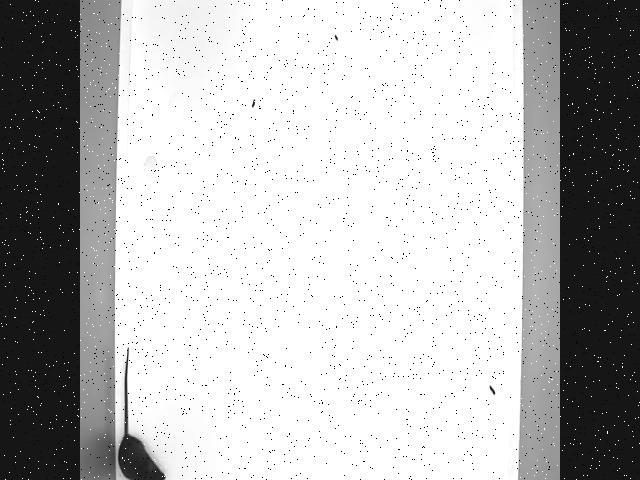Tikus: (113, 346, 168, 480)
